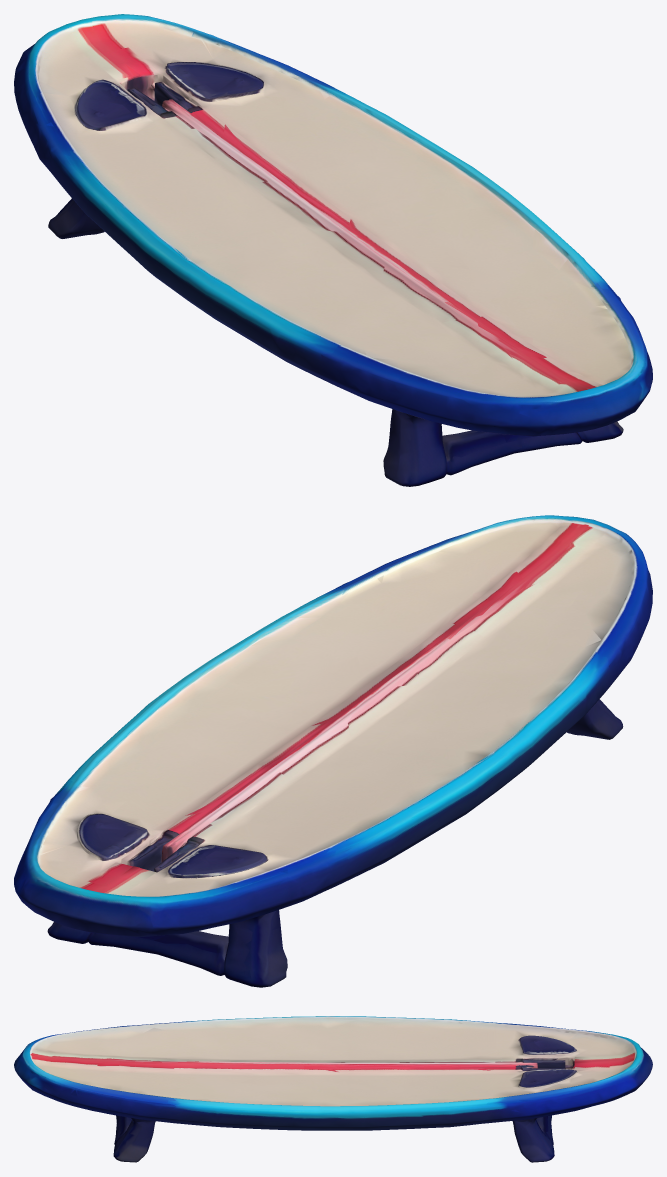
Rendered from board.glb.
3 renders of one model, top to bottom at view 1: azimuth 30°, elevation 25°; view 2: azimuth 150°, elevation 25°; view 3: azimuth 270°, elevation 25°, orthographic. The views are drawn at different scales.
Parts seen in each view (by area): view 1: tripo_node_a18222ab-7ff7-4832-848c-68f9de2e7e53; view 2: tripo_node_a18222ab-7ff7-4832-848c-68f9de2e7e53; view 3: tripo_node_a18222ab-7ff7-4832-848c-68f9de2e7e53.
Part boxes in pixels (bbox=[...]): tripo_node_a18222ab-7ff7-4832-848c-68f9de2e7e53: bbox=[14, 14, 652, 486]; tripo_node_a18222ab-7ff7-4832-848c-68f9de2e7e53: bbox=[14, 515, 652, 987]; tripo_node_a18222ab-7ff7-4832-848c-68f9de2e7e53: bbox=[14, 1016, 652, 1162].
Size of the model in its own units: 0.6683 by 0.2454 by 1.85.
1 material, 1 textured.
